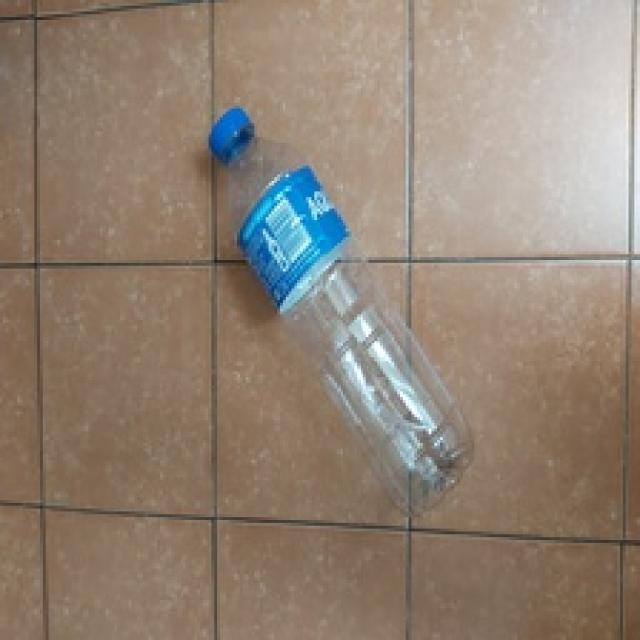Plastic: (208, 100, 476, 510)
